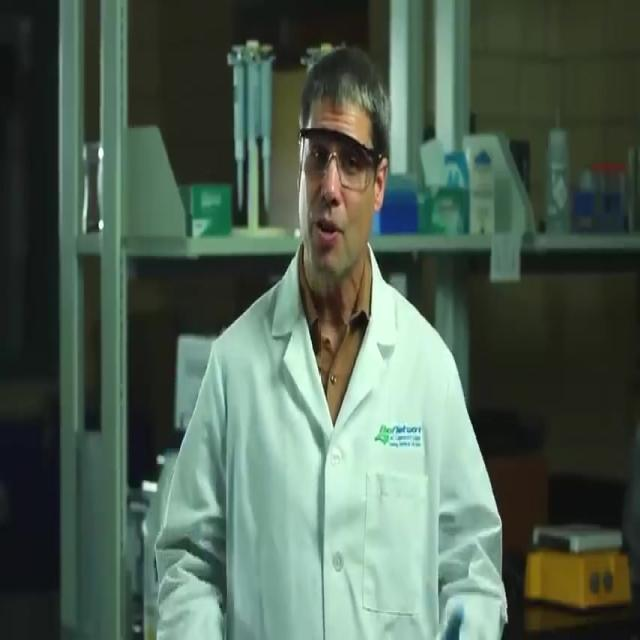googles: (302, 122, 372, 195)
labcoat: (153, 233, 510, 640)
